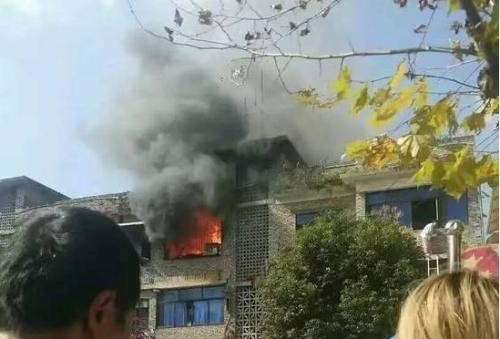fire: (167, 212, 224, 256)
